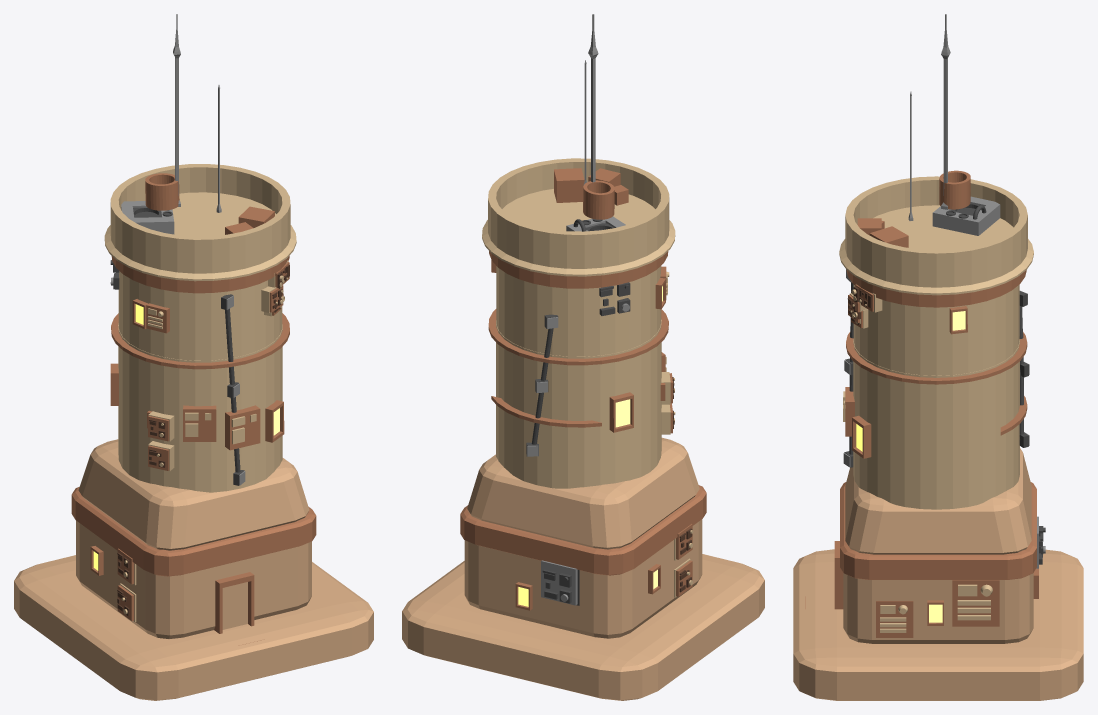
Rendered from nomad_building_33.fbx.
3 views of the same model, side by side, from view 1: azimuth 30°, elevation 25°; view 2: azimuth 150°, elevation 25°; view 3: azimuth 270°, elevation 25° (orthographic).
Parts seen in each view (by area): view 1: B33_M_Foundation_square, B33_T_Crown_RoofDeck_Ringwall, B33_T_Drum0, B33_M_R00_square_roof_defualt, B33_M_Blk00_base, B33_T_Drum1, B33_M_B00_Band_square_diameter_thich, B33_T_Ring10_TowerTrim_BandTall, B33_T_Ring00_TowerTrim_BandThin, B33_T_Stack0_TowerBody_StackWide, B33_M_Door_Door_Leaf, B33_T_Panel5_PanelBox_Body (+6 smaller); view 2: B33_M_Foundation_square, B33_T_Drum0, B33_T_Crown_RoofDeck_Ringwall, B33_M_R00_square_roof_defualt, B33_M_Blk00_base, B33_T_Drum1, B33_M_B00_Band_square_diameter_thich, B33_T_Ring10_TowerTrim_BandTall, B33_T_Ring00_TowerTrim_BandThin, B33_T_Stack0_TowerBody_StackWide, B33_T_Crown_RoofDeck_BlockLarge, B33_M_Panel3_MeterBox_Face001 (+4 smaller); view 3: B33_M_Foundation_square, B33_T_Drum0, B33_T_Crown_RoofDeck_Ringwall, B33_M_R00_square_roof_defualt, B33_T_Drum1, B33_M_Blk00_base, B33_M_B00_Band_square_diameter_thich, B33_T_Ring10_TowerTrim_BandTall, B33_T_Ring00_TowerTrim_BandThin, B33_T_Crown_RoofVent_Housing, B33_M_Panel0_PanelBox_Body001, B33_T_Stack0_TowerBody_StackWide (+5 smaller).
Part boxes in pixels (x1,y1,x2,y2): B33_M_Foundation_square: [14, 555, 373, 700]; B33_T_Crown_RoofDeck_Ringwall: [104, 164, 296, 281]; B33_T_Drum0: [118, 323, 282, 492]; B33_M_R00_square_roof_defualt: [78, 439, 309, 550]; B33_M_Blk00_base: [76, 520, 311, 638]; B33_T_Drum1: [118, 271, 282, 360]; B33_M_B00_Band_square_diameter_thich: [71, 487, 316, 576]; B33_T_Ring10_TowerTrim_BandTall: [111, 256, 289, 293]; B33_T_Ring00_TowerTrim_BandThin: [111, 313, 289, 369]; B33_T_Stack0_TowerBody_StackWide: [145, 173, 179, 210]; B33_M_Door_Door_Leaf: [222, 582, 247, 629]; B33_T_Panel5_PanelBox_Body: [225, 405, 260, 450]; B33_M_Foundation_square: [402, 554, 764, 700]; B33_T_Drum0: [496, 319, 661, 488]; B33_T_Crown_RoofDeck_Ringwall: [482, 158, 675, 276]; B33_M_R00_square_roof_defualt: [467, 437, 699, 549]; B33_M_Blk00_base: [464, 519, 702, 638]; B33_T_Drum1: [496, 266, 661, 356]; B33_M_B00_Band_square_diameter_thich: [460, 485, 706, 575]; B33_T_Ring10_TowerTrim_BandTall: [489, 251, 668, 288]; B33_T_Ring00_TowerTrim_BandThin: [488, 309, 668, 365]; B33_T_Stack0_TowerBody_StackWide: [583, 180, 614, 219]; B33_T_Crown_RoofDeck_BlockLarge: [554, 168, 584, 202]; B33_M_Panel3_MeterBox_Face001: [541, 560, 577, 605]; B33_M_Foundation_square: [793, 549, 1083, 700]; B33_T_Drum0: [853, 339, 1019, 509]; B33_T_Crown_RoofDeck_Ringwall: [839, 176, 1033, 295]; B33_M_R00_square_roof_defualt: [845, 448, 1031, 554]; B33_T_Drum1: [853, 284, 1019, 375]; B33_M_Blk00_base: [843, 573, 1033, 643]; B33_M_B00_Band_square_diameter_thich: [840, 482, 1036, 579]; B33_T_Ring10_TowerTrim_BandTall: [846, 270, 1026, 307]; B33_T_Ring00_TowerTrim_BandThin: [846, 332, 1027, 384]; B33_T_Crown_RoofVent_Housing: [932, 196, 1000, 235]; B33_M_Panel0_PanelBox_Body001: [952, 580, 999, 626]; B33_T_Stack0_TowerBody_StackWide: [939, 170, 970, 209].
Bounding box in the file's own units: 276 × 655 × 276.
